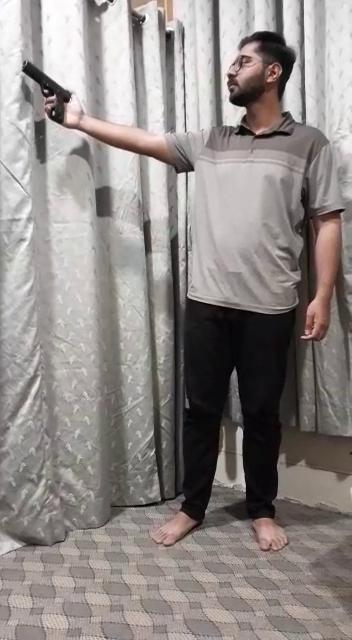criminal: (19, 29, 346, 553)
weapon: (20, 56, 75, 124)
